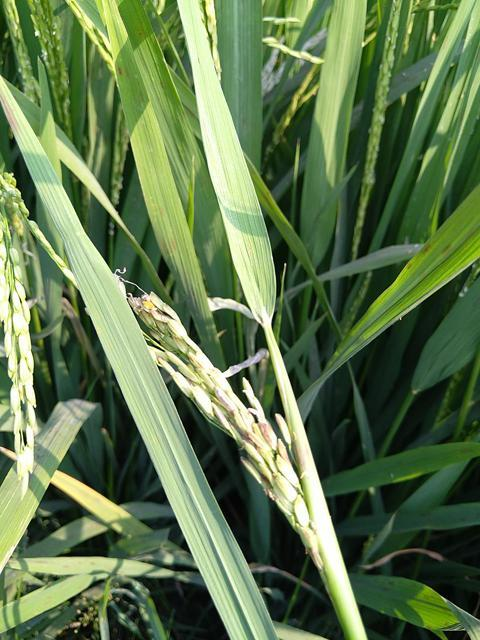Panicle Blight: (127, 292, 180, 332), (298, 527, 322, 569), (214, 387, 237, 417), (241, 431, 269, 451), (147, 345, 169, 369), (211, 401, 229, 430), (276, 414, 291, 444), (259, 424, 275, 451), (279, 441, 288, 461), (268, 488, 276, 502)
